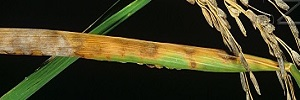RiceSheathBrownRot: (1, 25, 210, 69), (213, 48, 282, 73)
